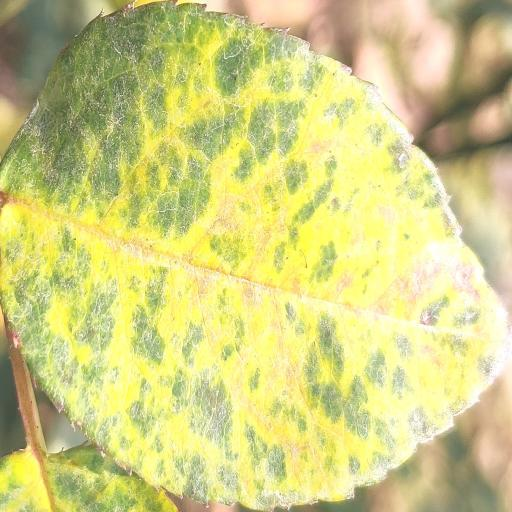red_mite: (0, 2, 511, 510)
